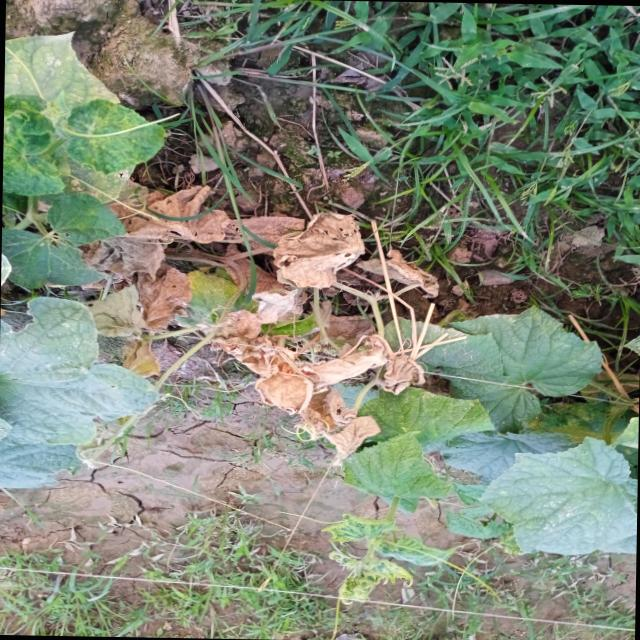cucumber_bacterial: (246, 203, 366, 339), (136, 170, 227, 240), (241, 350, 330, 418), (361, 340, 447, 401)
